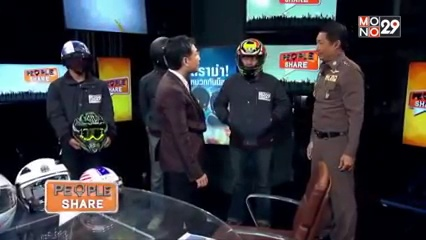helmet: (70, 113, 111, 151), (232, 38, 268, 76), (58, 37, 92, 76), (16, 156, 71, 178), (78, 163, 122, 182)
